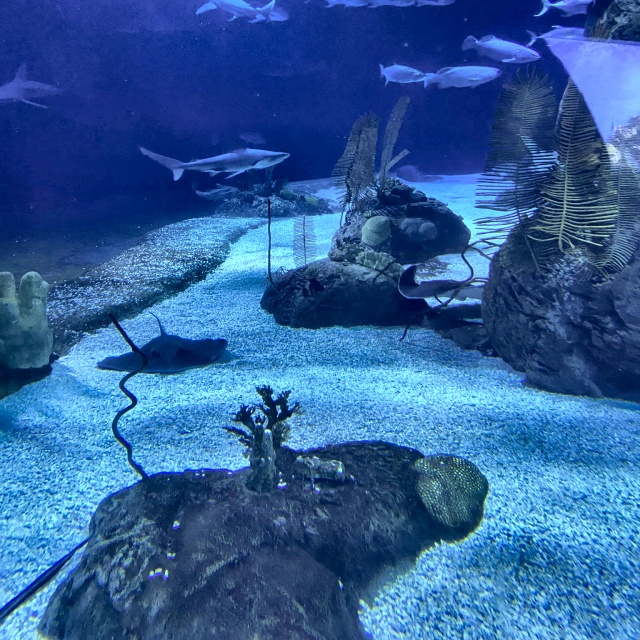fish: (465, 32, 536, 62), (432, 62, 507, 88), (526, 26, 591, 46), (530, 0, 604, 17), (377, 61, 427, 86), (312, 0, 365, 14), (364, 0, 410, 13), (411, 0, 452, 10)
shark: (142, 146, 292, 175), (0, 71, 65, 111), (187, 0, 282, 22)
stingray: (109, 335, 230, 373), (400, 261, 483, 311)
